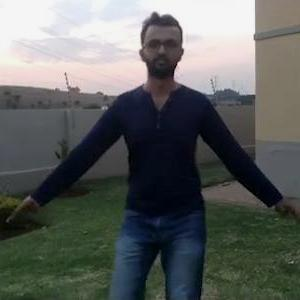land: (89, 69, 245, 290)
